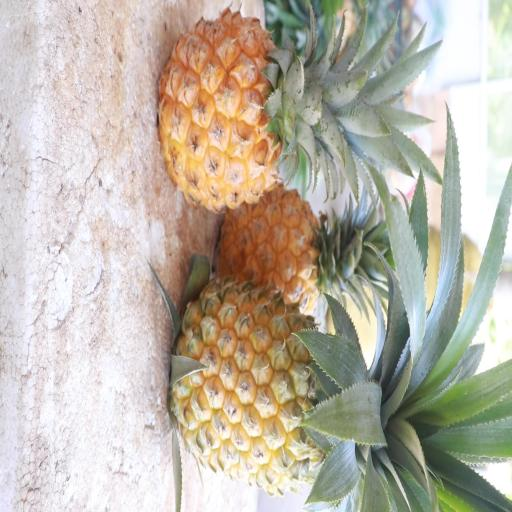Pineapple - v8 v1: (169, 272, 387, 502), (154, 4, 356, 218), (216, 177, 380, 319)
